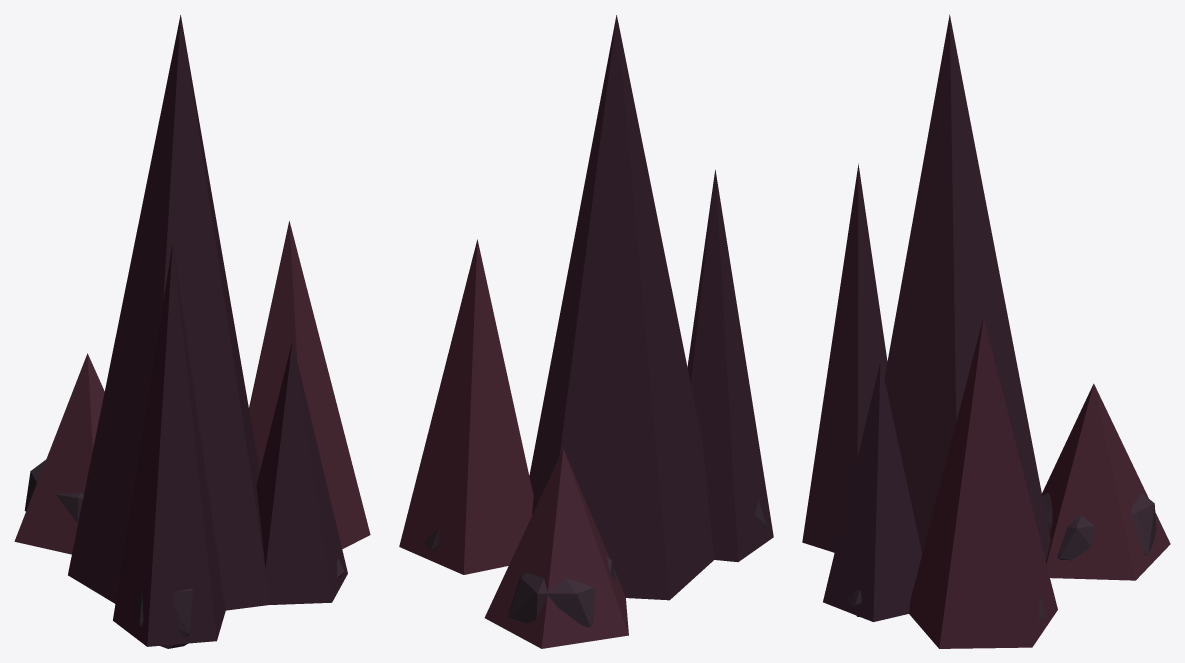
The model's file is FSA_ENV_Arena_Spikes_05.glb.
3 renders of one model, left to right at view 1: azimuth 30°, elevation 25°; view 2: azimuth 150°, elevation 25°; view 3: azimuth 270°, elevation 25°, orthographic. The views are drawn at different scales.
Parts seen in each view (by area): view 1: Spike_0, Spike_2, Spike_4, Spike_1, Spike_3, Basalt_2, Basalt_3; view 2: Spike_0, Spike_1, Spike_2, Spike_3, Basalt_3; view 3: Spike_0, Spike_1, Spike_2, Spike_4, Spike_3, Basalt_3.
Part boxes in pixels (x1,y1,x2,y2): Spike_0: (68,15,269,610); Spike_2: (113,242,225,646); Spike_4: (256,341,347,604); Spike_1: (249,221,370,548); Spike_3: (14,353,104,554); Basalt_2: (136,589,192,648); Basalt_3: (24,460,83,523); Spike_0: (529,15,714,600); Spike_1: (399,239,533,574); Spike_2: (687,169,773,562); Spike_3: (484,448,628,648); Basalt_3: (508,556,616,626); Spike_0: (884,14,1050,561); Spike_1: (909,317,1057,648); Spike_2: (802,163,887,552); Spike_4: (823,361,922,621); Spike_3: (1042,383,1170,580); Basalt_3: (1042,493,1156,560).
Size of what is drawn, in the model's own units: 1.79 by 3.44 by 2.07.
